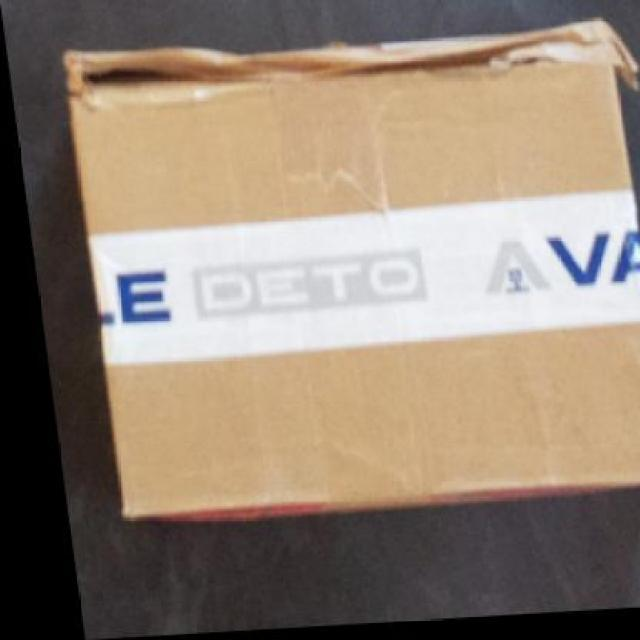box: (59, 19, 638, 518)
